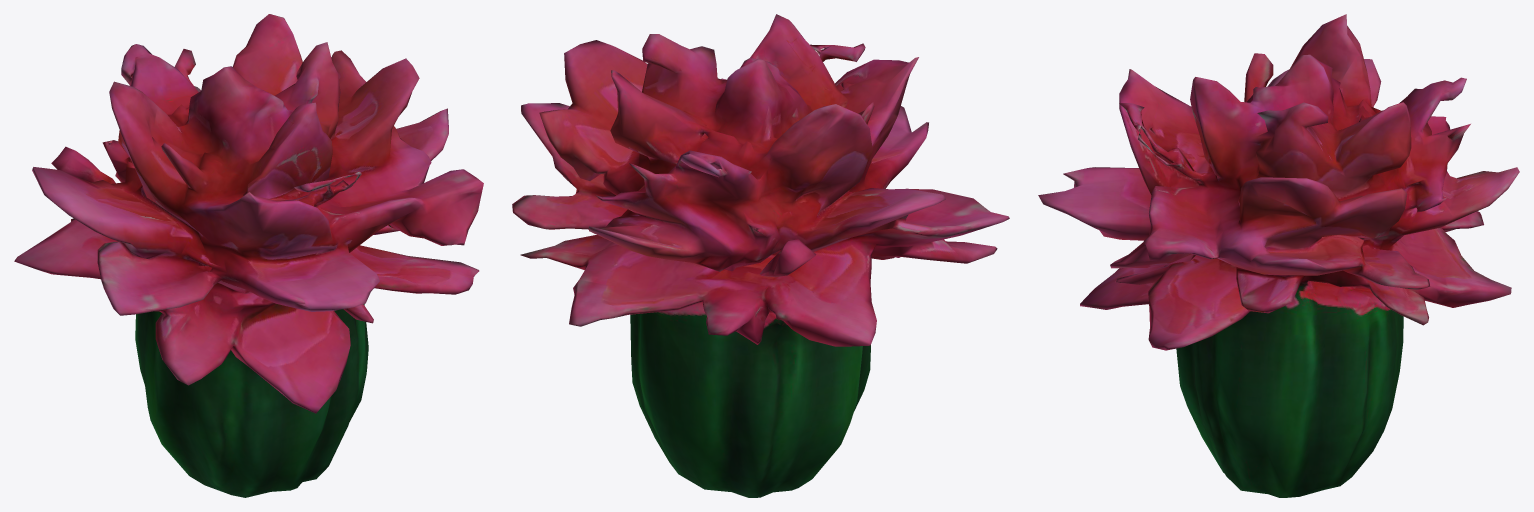
The model's file is 90609a3e0d89_low_poly_stylized_c.fbx.
3 renders of one model, left to right at view 1: azimuth 30°, elevation 25°; view 2: azimuth 150°, elevation 25°; view 3: azimuth 270°, elevation 25°, orthographic. The views are drawn at different scales.
Visible parts, largest first — view 1: mesh; view 2: mesh; view 3: mesh.
Boxes of the visible parts, x1,y1,x2,y2 form: mesh: [14, 14, 483, 497]; mesh: [512, 14, 1009, 497]; mesh: [1038, 14, 1519, 497].
Size of the model in its own units: 97 by 97.05 by 100.
